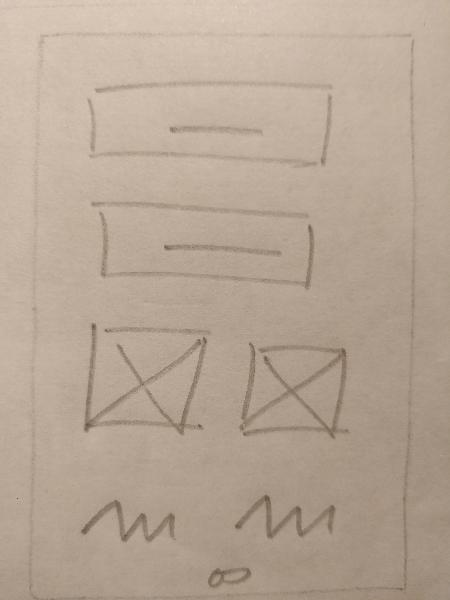button: (79, 68, 349, 177), (80, 192, 328, 298)
image: (76, 315, 218, 446), (233, 334, 361, 444)
switch: (197, 560, 260, 588)
text: (222, 484, 345, 547), (72, 491, 195, 553)
